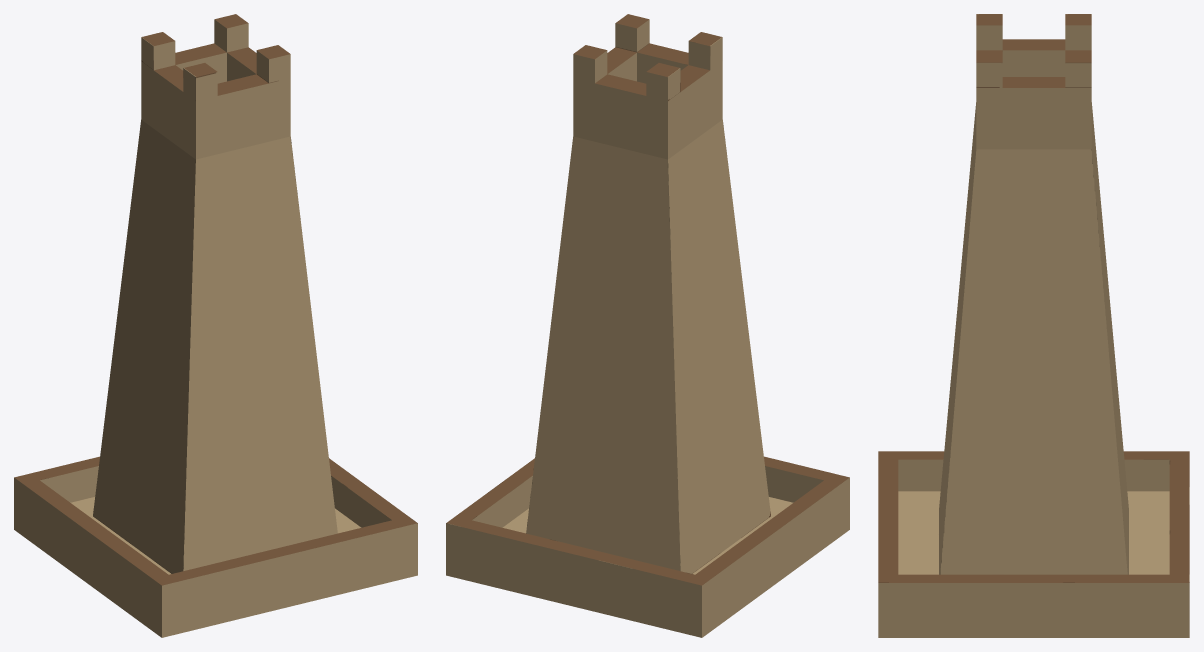
Rendered from temple.fbx.
The picture shows the model from 3 angles, left to right: view 1: azimuth 30°, elevation 25°; view 2: azimuth 150°, elevation 25°; view 3: azimuth 270°, elevation 25°; orthographic projection. The views are drawn at different scales.
Visible parts, largest first — view 1: temple; view 2: temple; view 3: temple.
Part boxes in pixels (bbox=[...]): temple: bbox=[14, 14, 417, 637]; temple: bbox=[446, 14, 849, 637]; temple: bbox=[878, 14, 1189, 637].
Size of the model in its own units: 46.32 by 87.67 by 46.32.
1 material, 1 textured.
